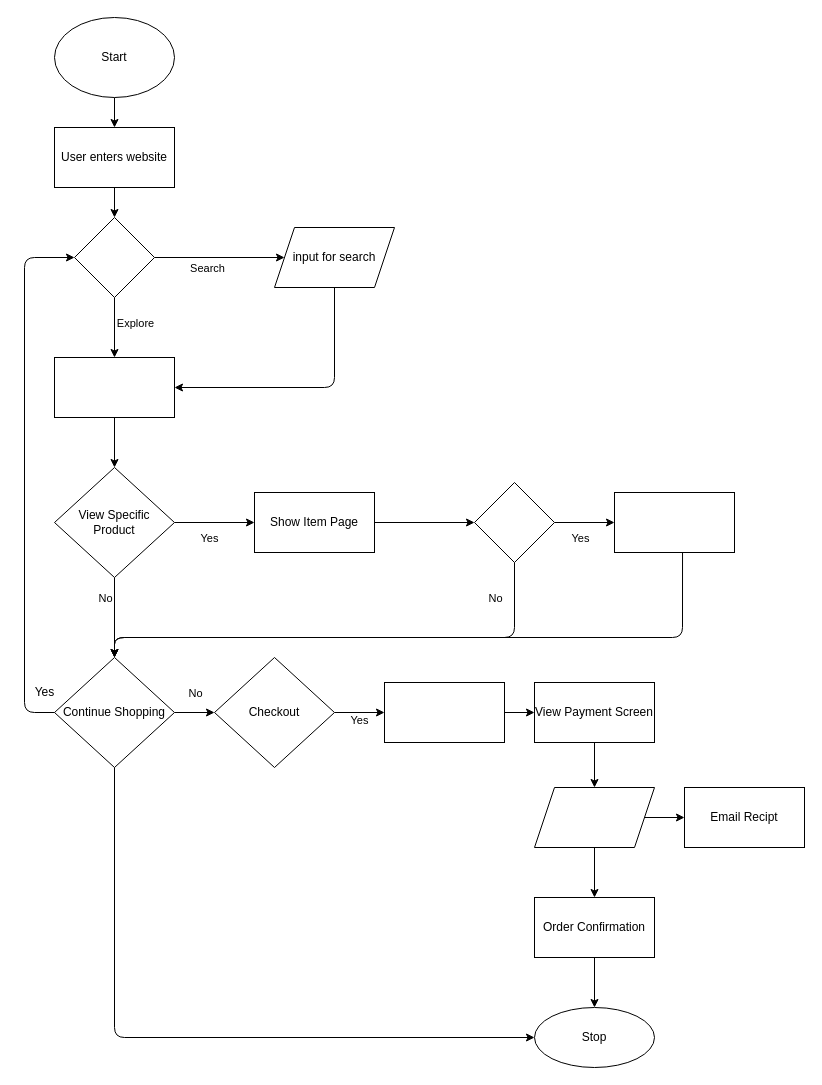
The diagram is 822 pixels wide and 1085 high, and some of its shapes have lost their labels. Each missing label, with the centre of its shape:
Add to Cart?: (514,522)
Input Payment Info: (594,817)
Search or Explore: (114,257)
Show Confirmation: (674,522)
Show Products: (114,387)
View Cart Screen: (444,712)
